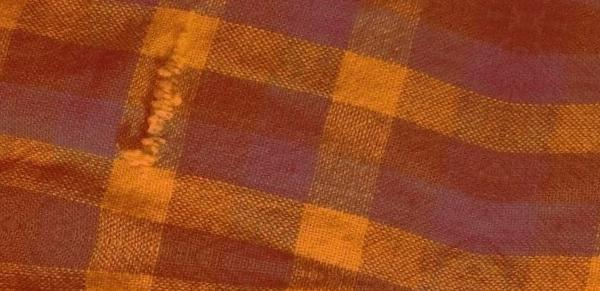knot: (123, 34, 186, 167)
